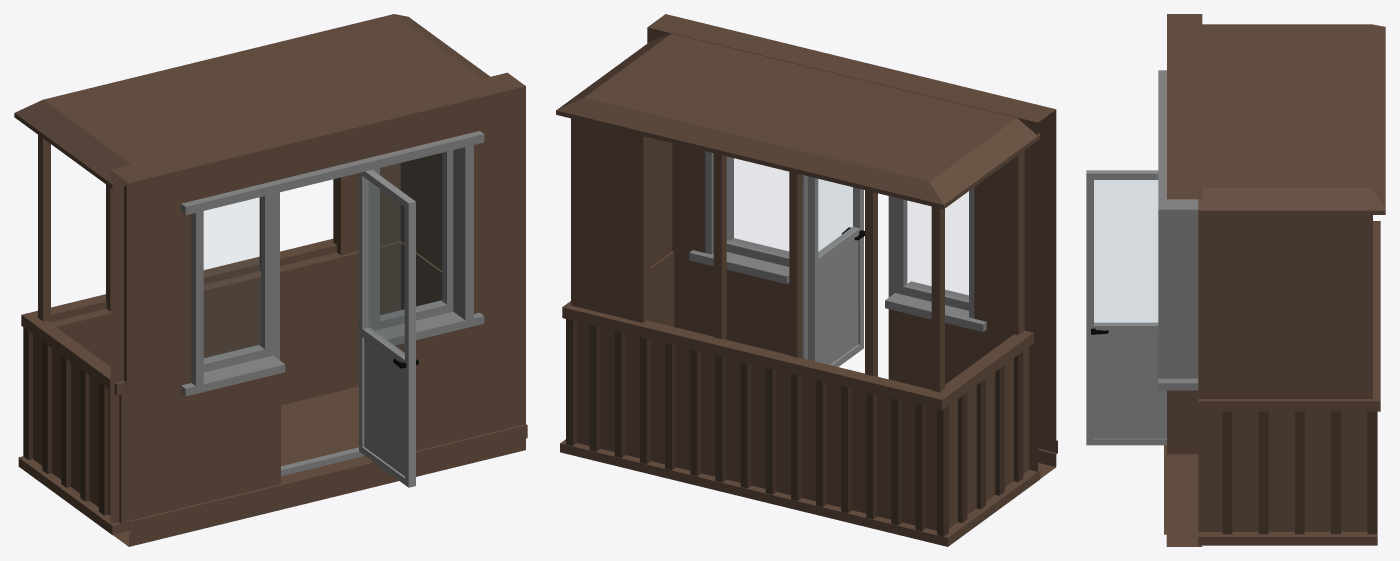
3 views of the same model, side by side, from view 1: azimuth 30°, elevation 25°; view 2: azimuth 150°, elevation 25°; view 3: azimuth 270°, elevation 25° (orthographic). The views are drawn at different scales.
Visible parts, largest first — view 1: Hub_3_balcony_032, Balcony_door_018; view 2: Hub_3_balcony_032, Balcony_door_018; view 3: Hub_3_balcony_032, Balcony_door_018.
Part boxes in pixels (box(x1,y1,x2,y2)): Hub_3_balcony_032: box(14, 14, 527, 546); Balcony_door_018: box(359, 170, 418, 487); Hub_3_balcony_032: box(556, 14, 1057, 546); Balcony_door_018: box(808, 176, 864, 366); Hub_3_balcony_032: box(1158, 14, 1385, 546); Balcony_door_018: box(1086, 170, 1166, 445).
Bounding box in the file's own units: 320 × 280 × 218.
